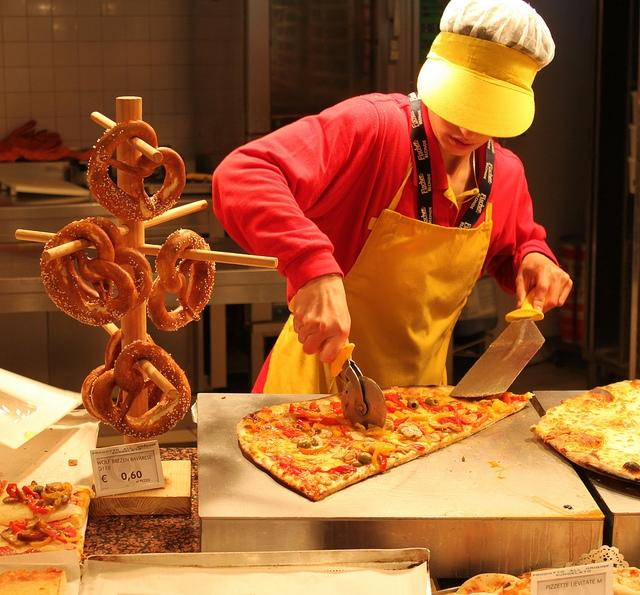mushroom: (16, 529, 44, 542), (400, 424, 423, 438), (296, 438, 318, 448), (282, 430, 304, 439), (314, 476, 332, 486), (2, 496, 18, 504), (45, 498, 58, 506), (61, 494, 70, 504), (402, 409, 413, 414)
